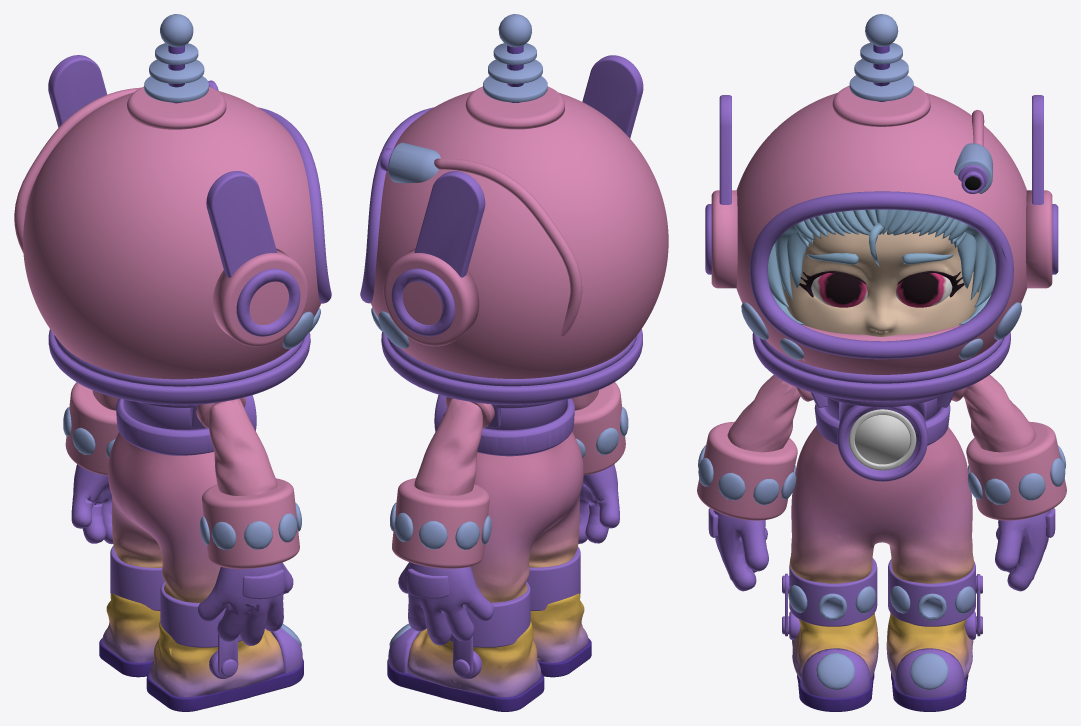
Rendered from soshie.glb.
3 renders of one model, left to right at view 1: azimuth 30°, elevation 25°; view 2: azimuth 150°, elevation 25°; view 3: azimuth 270°, elevation 25°, orthographic.
Visible parts, largest first — view 1: Soshie; view 2: Soshie; view 3: Soshie.
Part boxes in pixels (x1=…): Soshie: x1=14, y1=14, x2=331, y2=711; Soshie: x1=360, y1=14, x2=668, y2=711; Soshie: x1=697, y1=14, x2=1066, y2=711.
Size of the model in its own units: 0.0584 by 0.1394 by 0.072.
